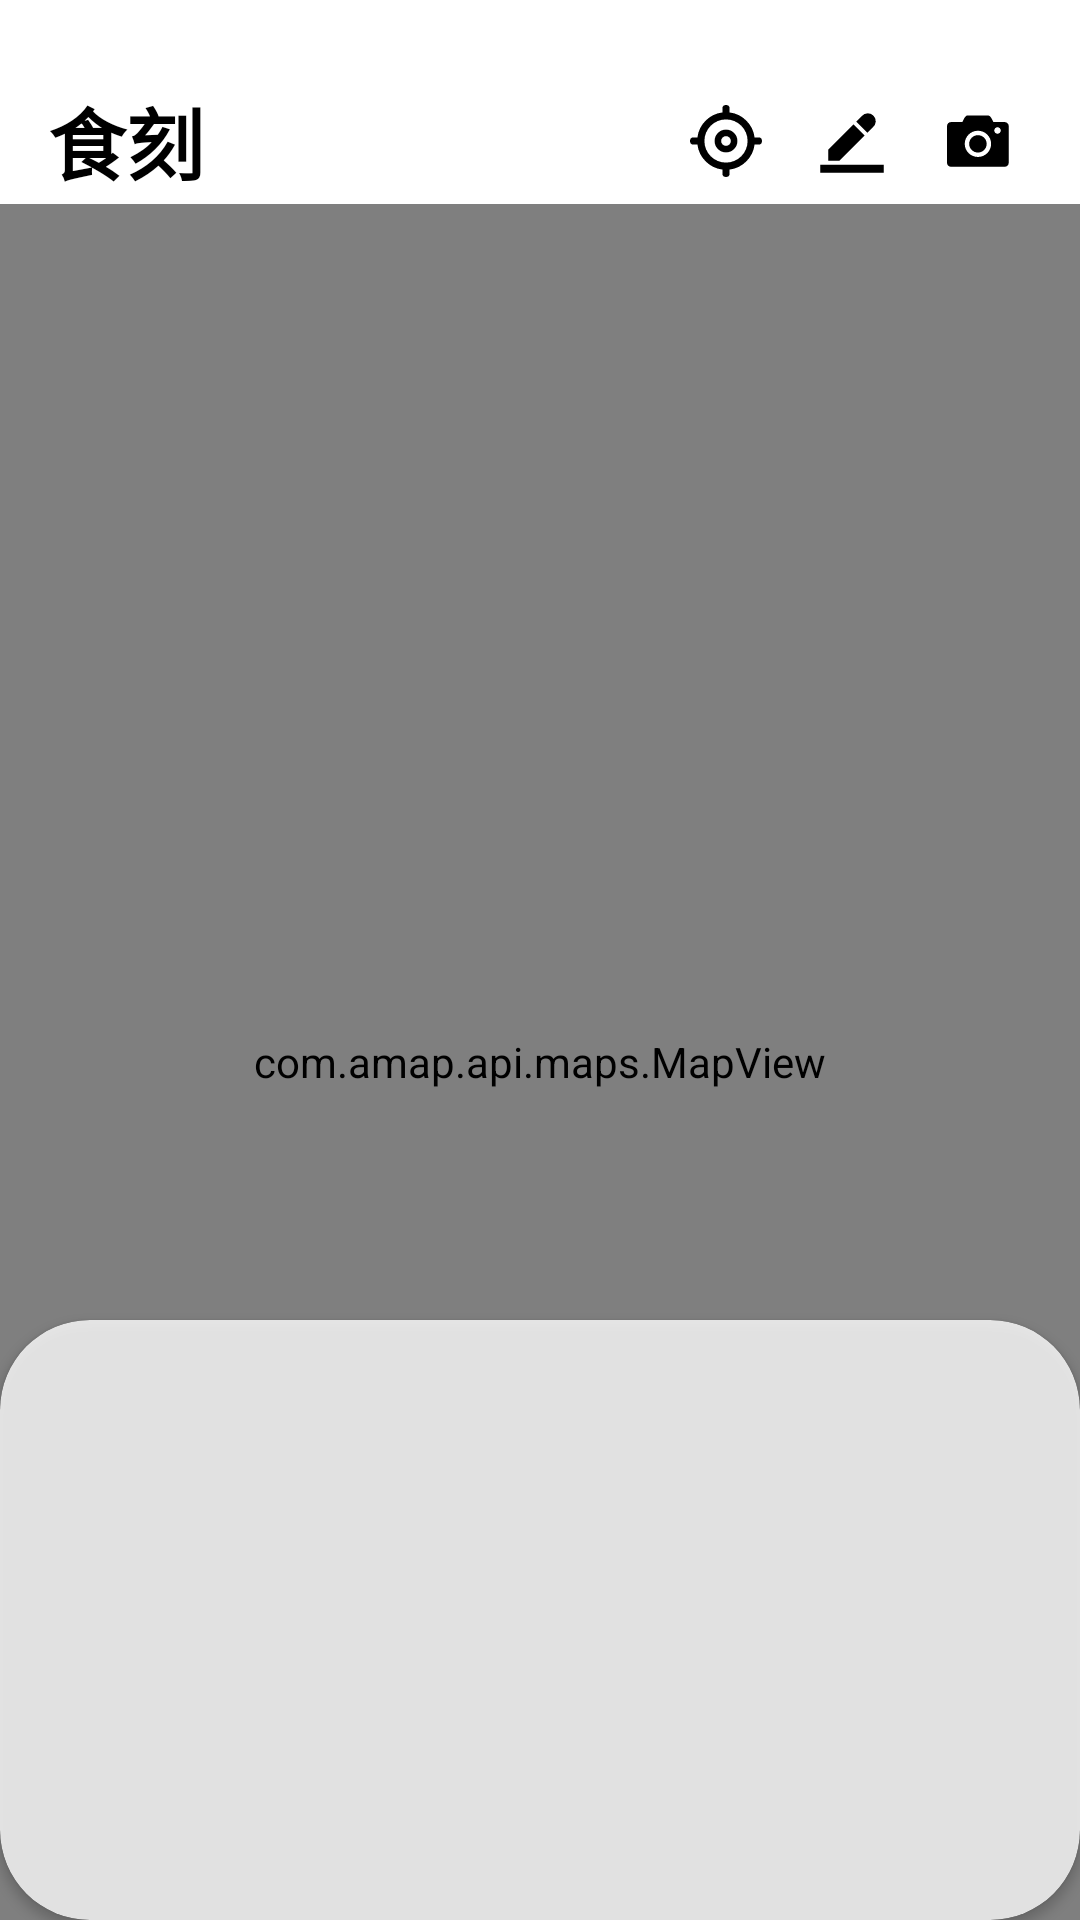

Locate icon controls on the screen. Image size 1080x1920, boxes as (x1, y1, x2, y2).
camera: (947, 115, 1009, 167)
edit: (820, 113, 884, 173)
